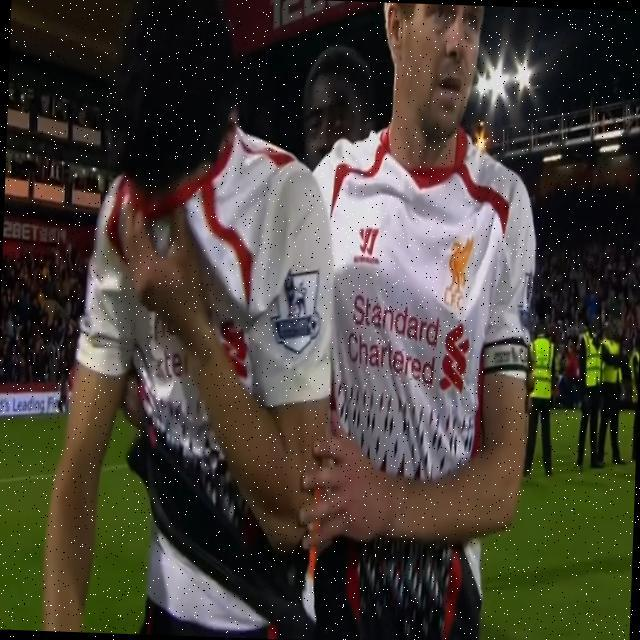Standard Chartered: (347, 296, 470, 389)
